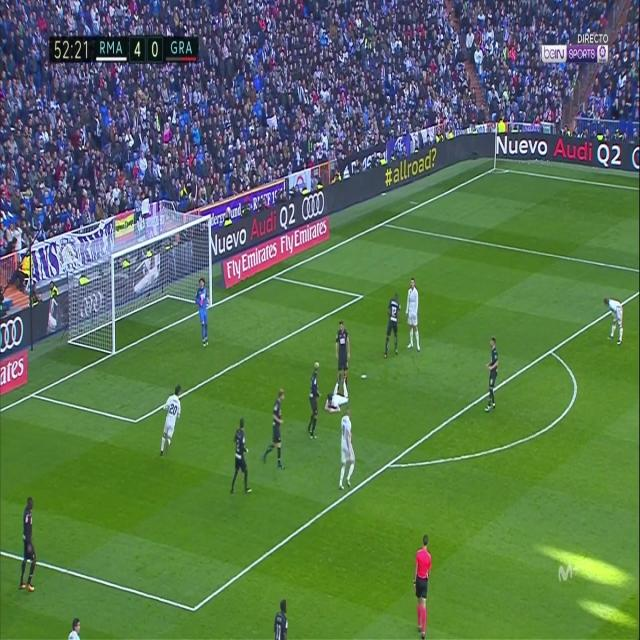Goalkeeper: (194, 274, 212, 350)
Player: (16, 494, 40, 596), (227, 415, 254, 500), (261, 388, 288, 473), (158, 381, 182, 459), (337, 407, 356, 496), (404, 277, 424, 355), (382, 292, 402, 363), (484, 334, 500, 414), (306, 357, 321, 441), (323, 372, 349, 418), (604, 297, 626, 349), (334, 320, 352, 378), (273, 599, 290, 639)
Referee: (413, 532, 432, 640)
